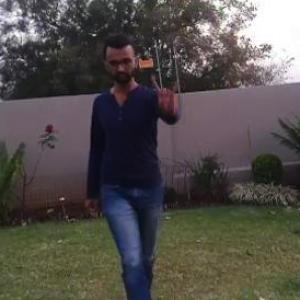takeoff-hand: (146, 72, 184, 117)
